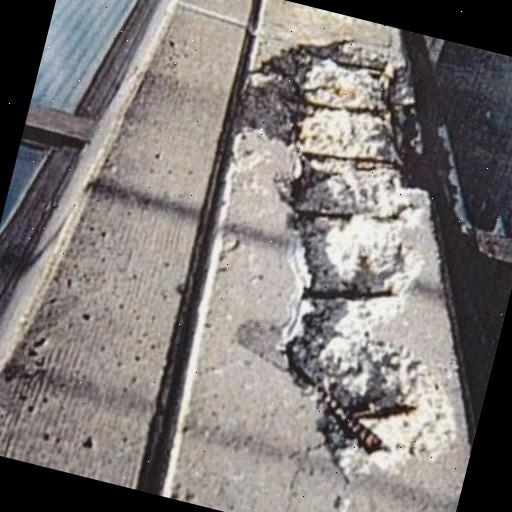spalling: (236, 31, 461, 473)
